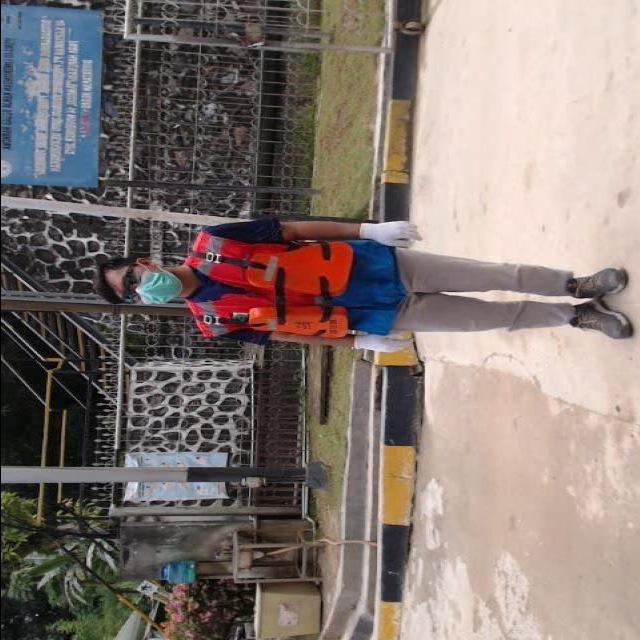jacket: (172, 208, 352, 346)
